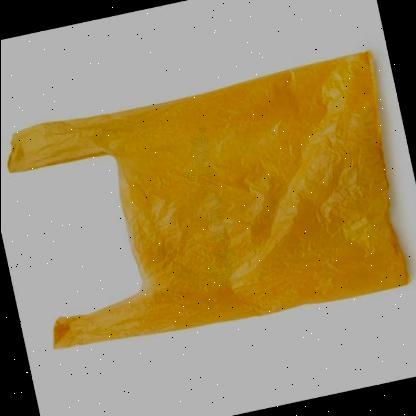Others: (6, 49, 412, 347)
